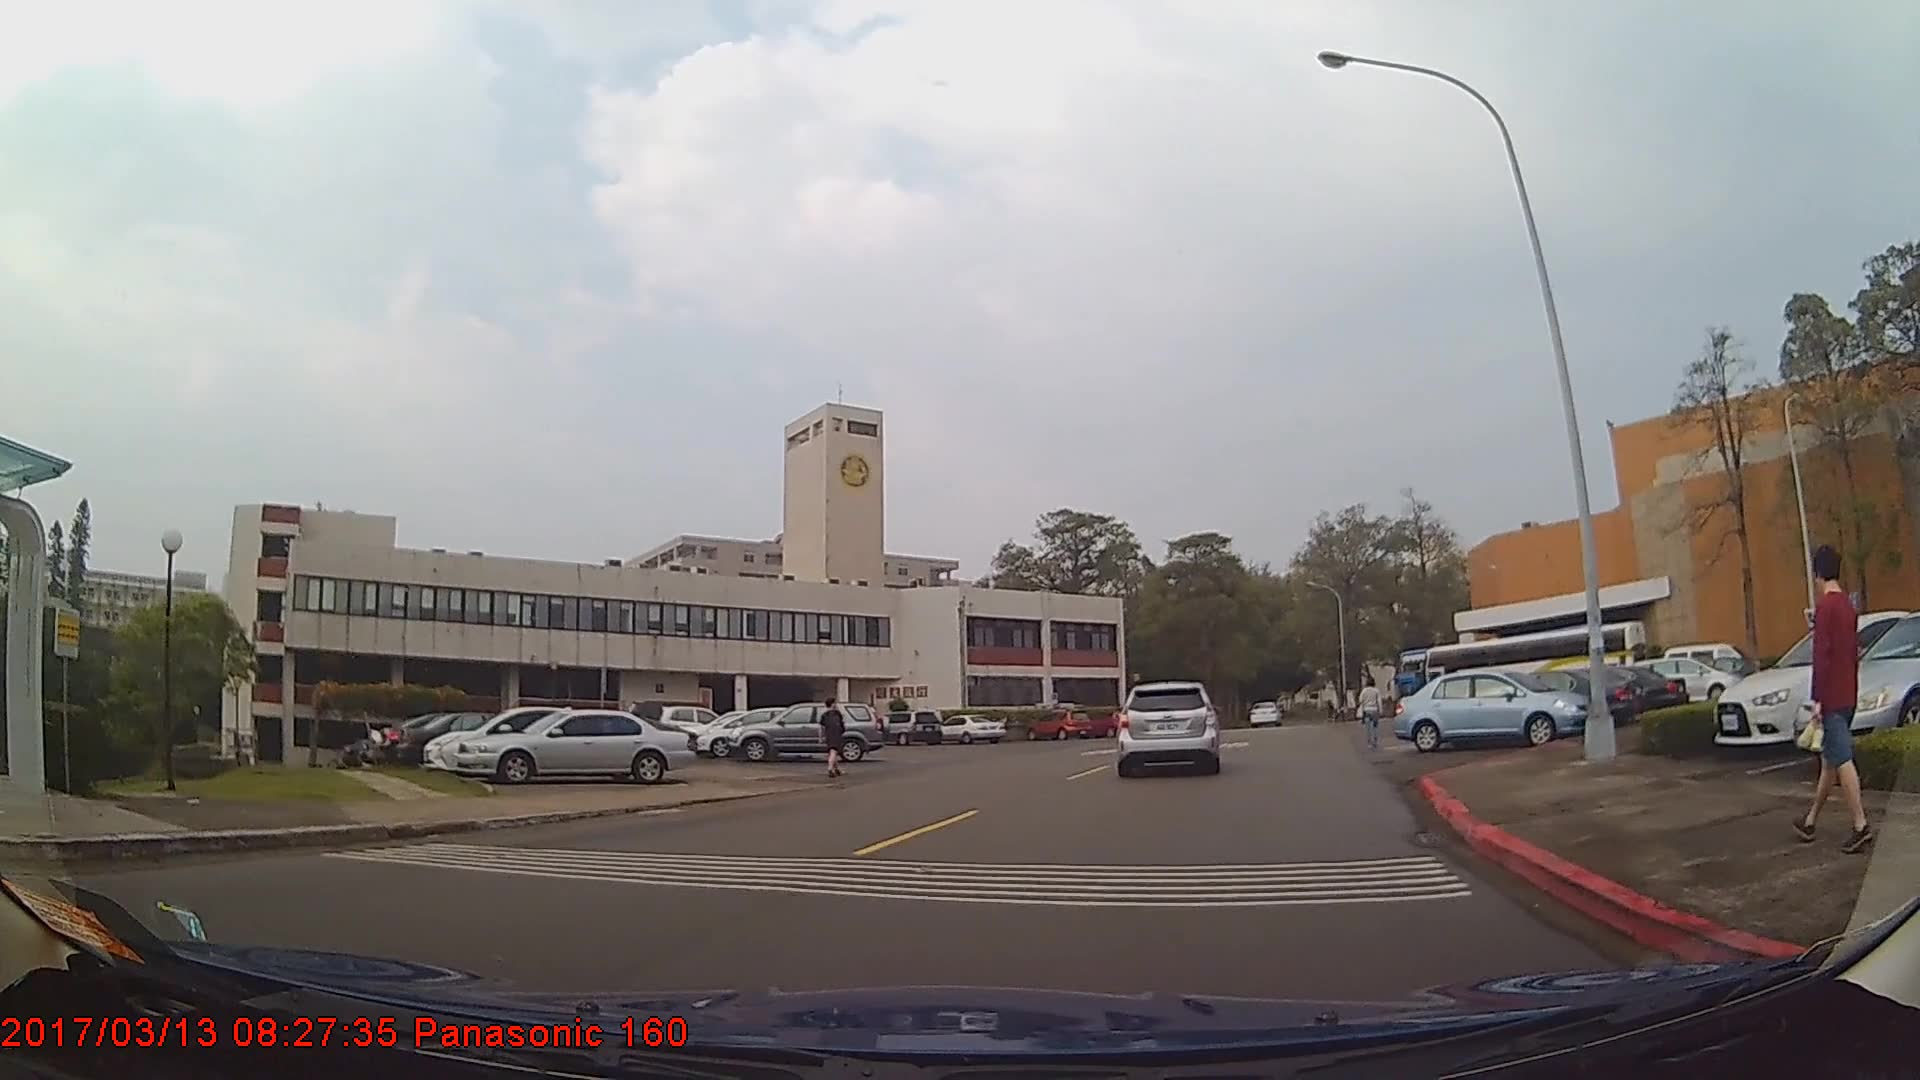pedestrian: (1795, 544, 1868, 847), (816, 691, 853, 784), (1355, 675, 1385, 745)
vehicle: (1713, 609, 1920, 748), (1793, 608, 1920, 755), (451, 708, 693, 784), (1389, 668, 1592, 752), (417, 702, 636, 774), (1454, 668, 1642, 729), (1116, 679, 1218, 777), (393, 708, 559, 768), (729, 702, 888, 764), (1532, 664, 1685, 717), (694, 704, 825, 757), (1624, 655, 1742, 703), (657, 704, 729, 743), (877, 710, 942, 747), (1023, 708, 1091, 743), (936, 714, 1005, 745), (1246, 697, 1279, 727)
